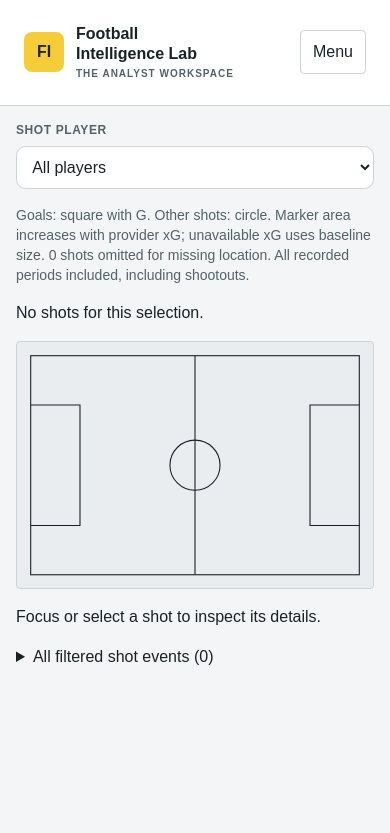
Test: handles empty shots and mobile navigation including xT
The width and height of the screenshot is (390, 833).
Expected: the text "No shots for this selection." is shown, x1=16 y1=304 x2=204 y2=321
What coordinates should you click on to do the following:
click the button "Menu"
I would click on:
 (333, 52)
Its box is x1=300 y1=30 x2=366 y2=74.
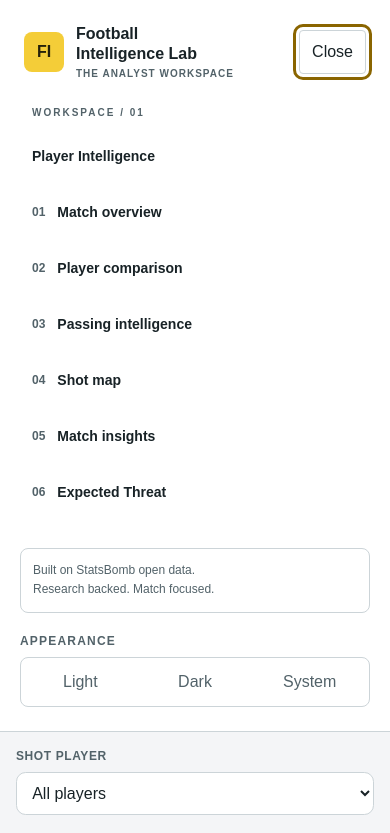
Expected: the button "Close" is expanded, x1=299 y1=30 x2=366 y2=74
What coordinates should you click on to do the following:
click the link "06 Expected Threat"
I would click on:
 (99, 492)
Its box is x1=32 y1=484 x2=166 y2=500.
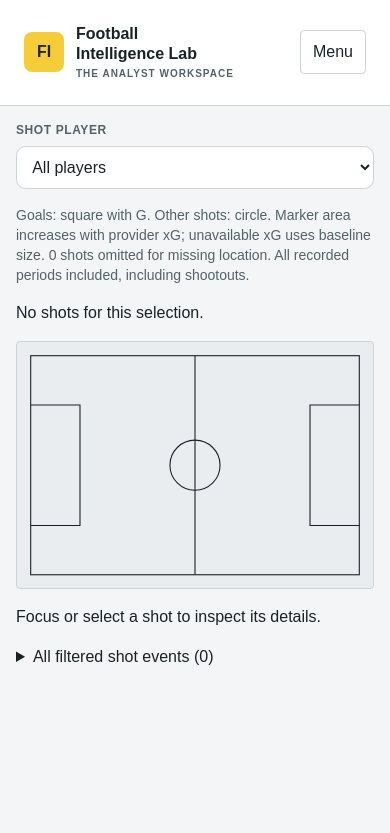
Expected: the button "Menu" is collapsed, x1=300 y1=30 x2=366 y2=74
